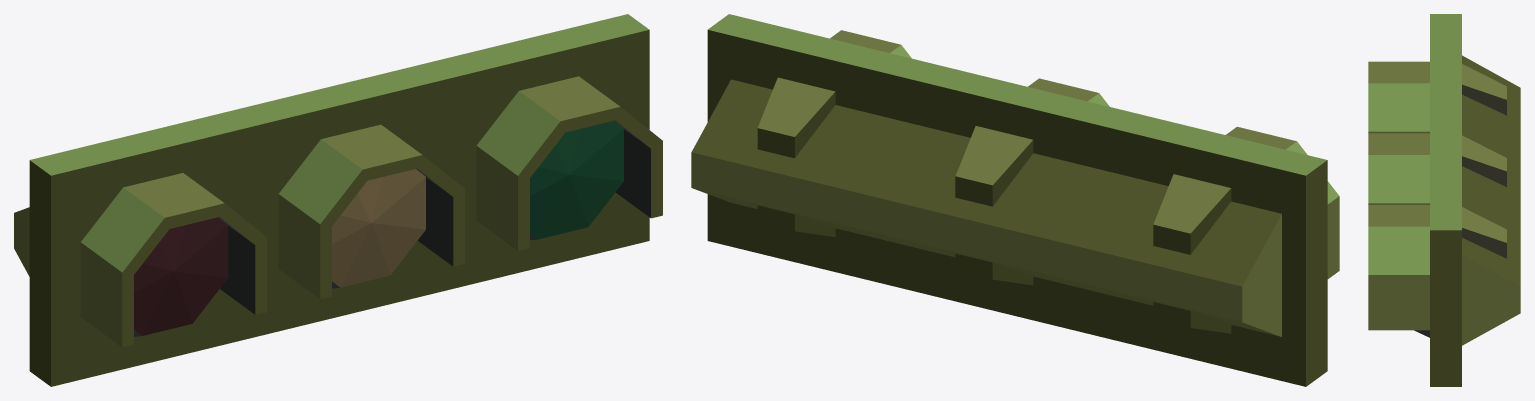
Rendered from TB_CITY_Prop_TrafficLight_C_Green.FBX.
3 renders of one model, left to right at view 1: azimuth 30°, elevation 25°; view 2: azimuth 150°, elevation 25°; view 3: azimuth 270°, elevation 25°, orthographic. The views are drawn at different scales.
Parts seen in each view (by area): view 1: TB_CITY_Prop_TrafficLight_C_Green; view 2: TB_CITY_Prop_TrafficLight_C_Green; view 3: TB_CITY_Prop_TrafficLight_C_Green.
Part boxes in pixels (x1,y1,x2,y2): TB_CITY_Prop_TrafficLight_C_Green: (14, 14, 662, 386); TB_CITY_Prop_TrafficLight_C_Green: (691, 14, 1339, 386); TB_CITY_Prop_TrafficLight_C_Green: (1368, 14, 1520, 386).
Size of the model in its own units: 3.04 by 1.03 by 0.9038.
